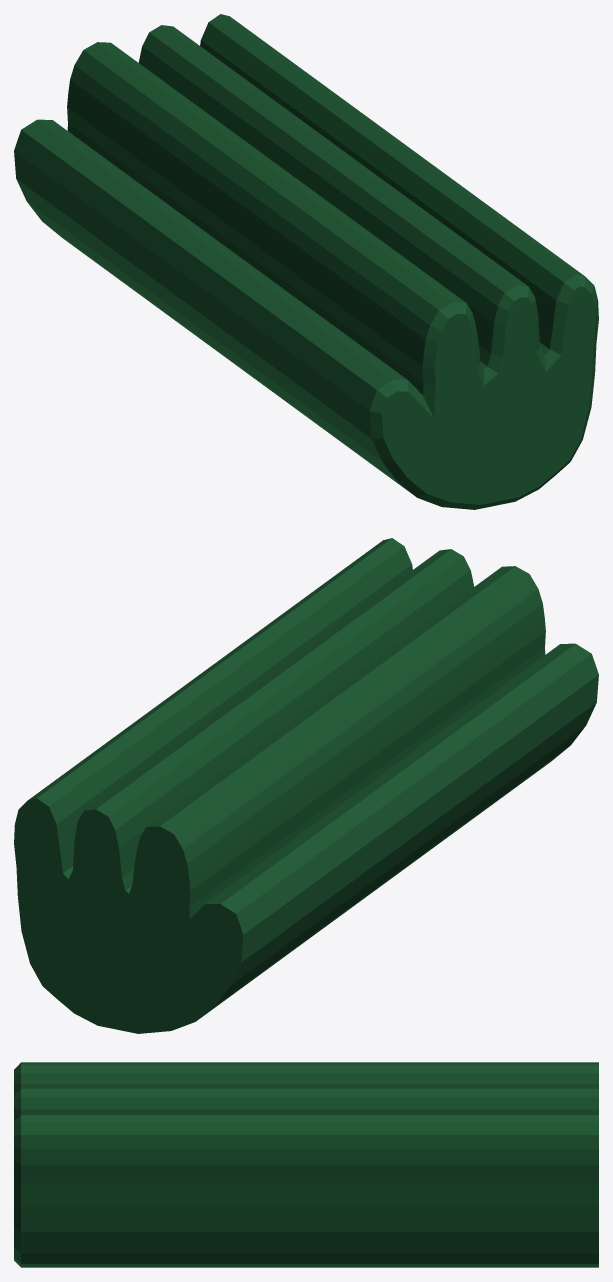
The model's file is Hand.fbx.
3 views of the same model, one above another, from view 1: azimuth 30°, elevation 25°; view 2: azimuth 150°, elevation 25°; view 3: azimuth 270°, elevation 25° (orthographic). The views are drawn at different scales.
Visible parts, largest first — view 1: Hand; view 2: Hand; view 3: Hand.
Part boxes in pixels (x1,y1,x2,y2): Hand: (14,14,598,509); Hand: (14,538,598,1033); Hand: (14,1062,598,1267).
Bounding box in the file's own units: 110 × 99.31 × 300.
